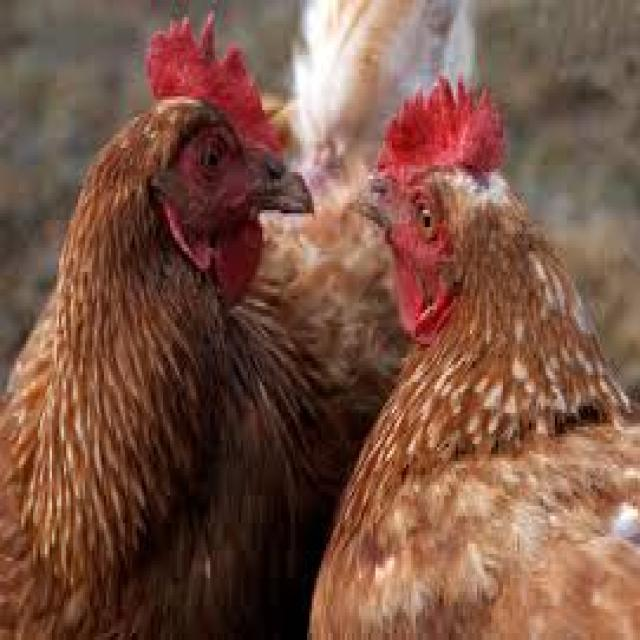Chicken: (332, 84, 622, 640), (48, 33, 316, 614)
